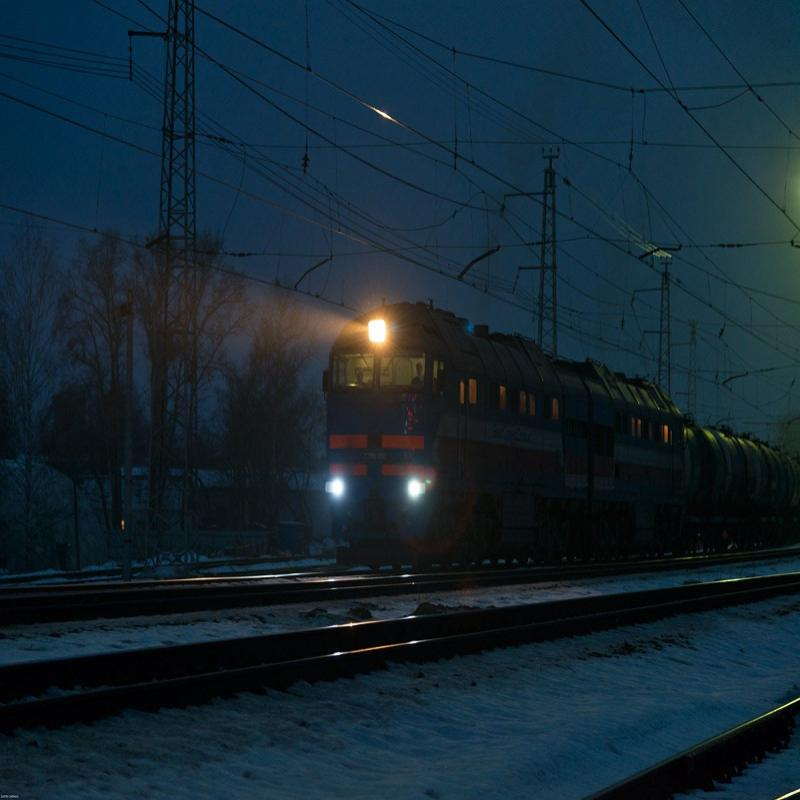train: (312, 262, 707, 599), (701, 397, 800, 564)
